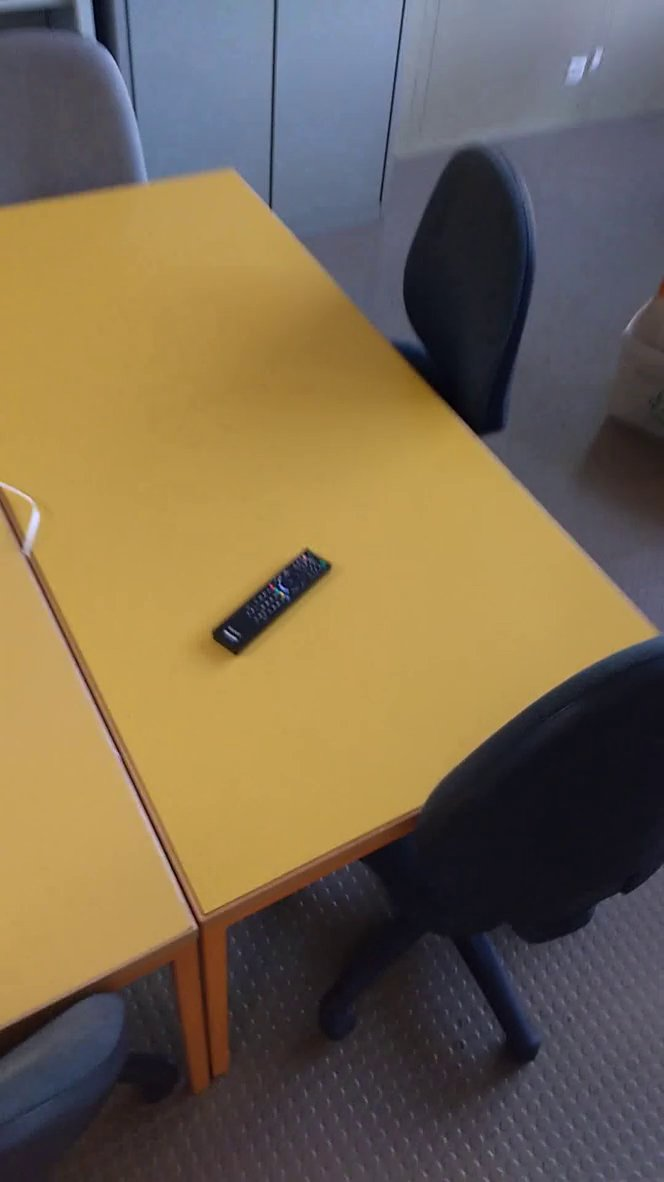chair: (315, 596, 664, 1108), (360, 134, 549, 479), (1, 29, 153, 239)
remote: (199, 534, 351, 675)
